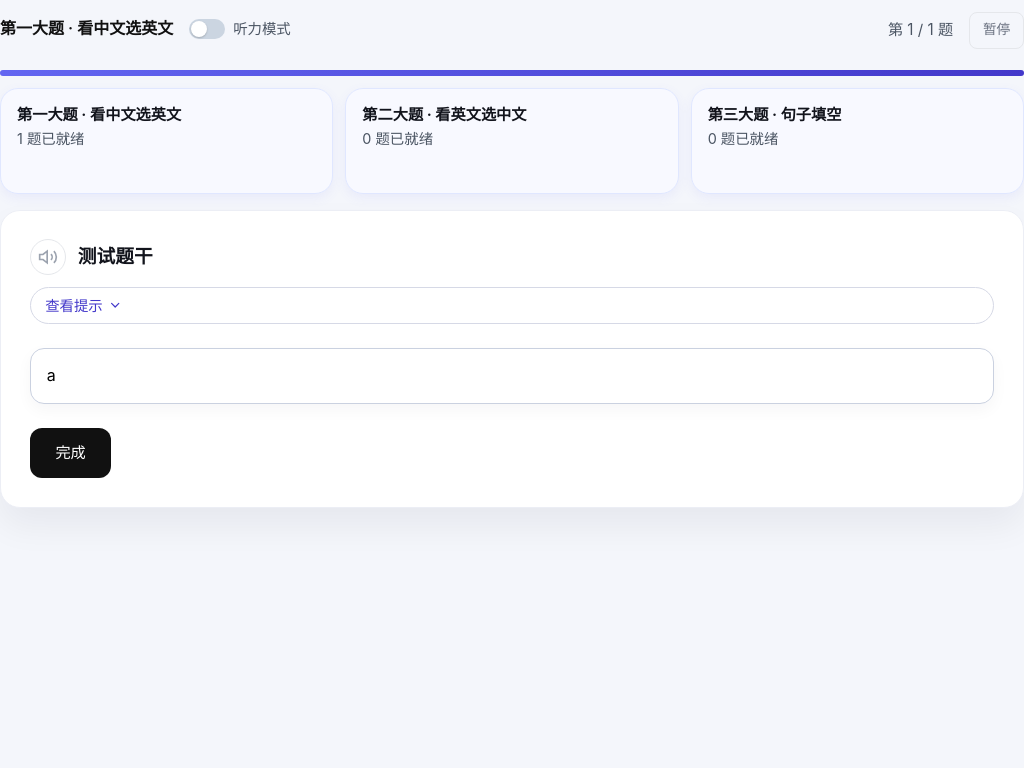
QuizPage › Session Resume › 点击暂停按钮显示确认对话框
This screenshot has width=1024, height=768.
What coordinates should you click on to do the following:
click the button "暂停"
I would click on:
 (997, 30)
Its box is [969, 12, 1023, 48].
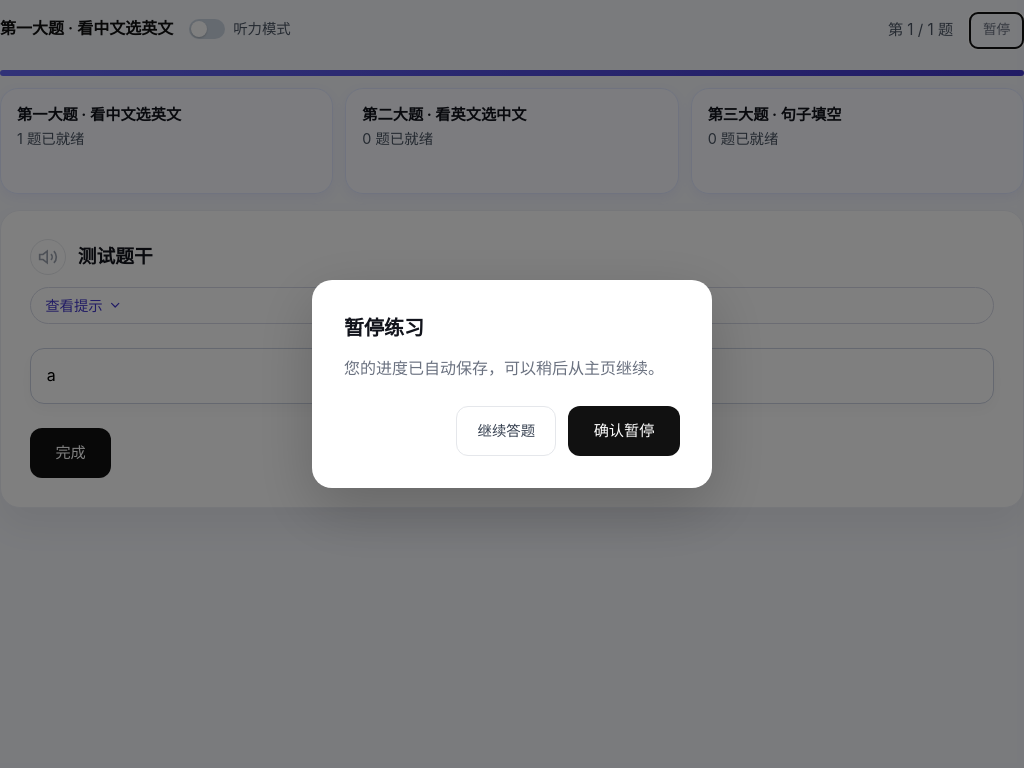
Expected: the heading "暂停练习" is shown, [344, 316, 424, 340]
Expected: the text "您的进度已自动保存，可以稍后从主页继续。" is shown, [344, 356, 680, 382]
Expected: the button "继续答题" is shown, [456, 406, 556, 456]
